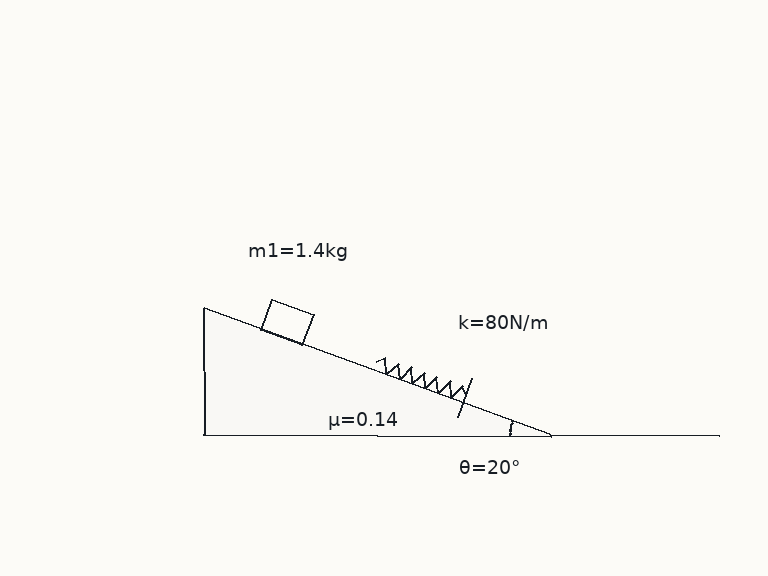block: (258, 297, 315, 347)
ramp: (201, 307, 552, 437)
spring: (374, 356, 468, 399)
